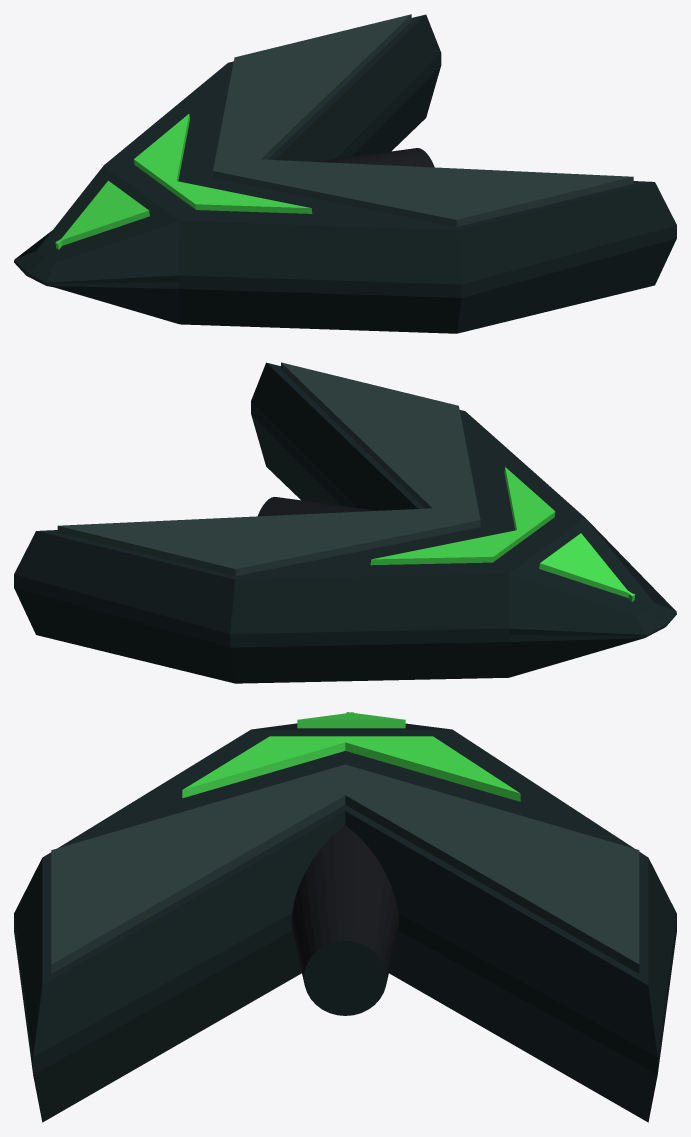
The model's file is Boss3Projectile.fbx.
The picture shows the model from 3 angles, top to bottom: view 1: azimuth 30°, elevation 25°; view 2: azimuth 150°, elevation 25°; view 3: azimuth 270°, elevation 25°; orthographic projection. The views are drawn at different scales.
Parts seen in each view (by area): view 1: Cylinder; view 2: Cylinder; view 3: Cylinder.
Part boxes in pixels (box(x1,y1,x2,y2)): Cylinder: box(14, 14, 676, 333); Cylinder: box(14, 362, 676, 683); Cylinder: box(14, 712, 676, 1122).
Bounding box in the file's own units: 71.84 × 14.28 × 58.59.
Materials: 1 (1 with a texture image).
